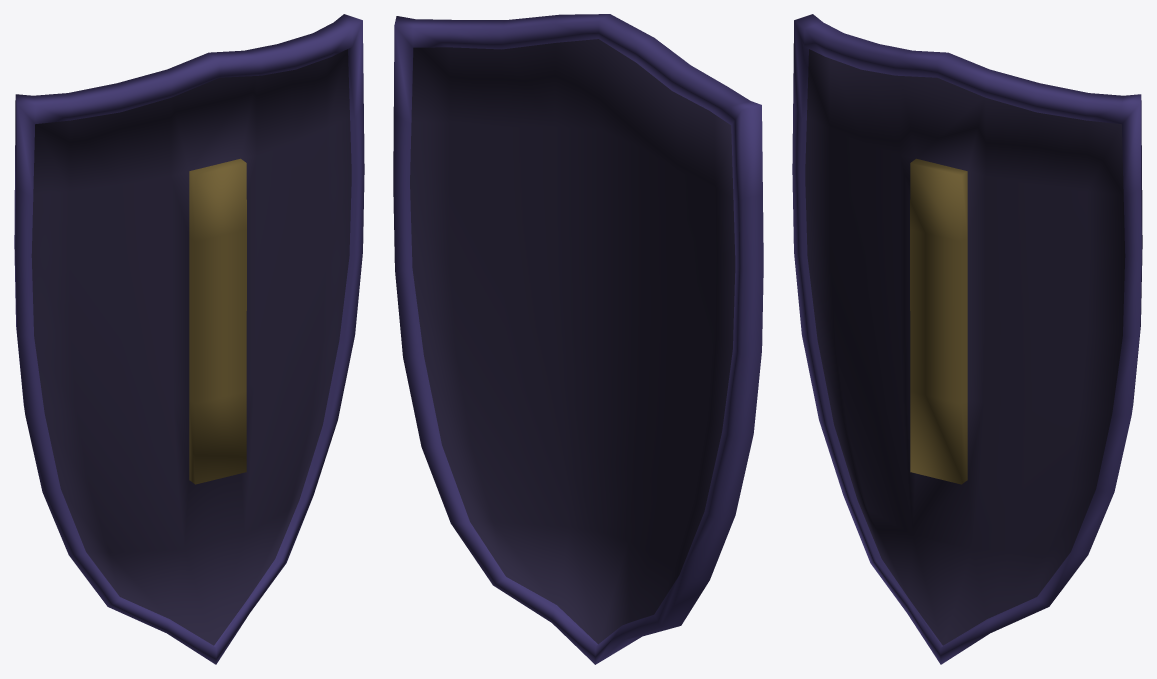
Rendered from gothic-shield.glb.
The picture shows the model from 3 angles, left to right: view 1: azimuth 30°, elevation 25°; view 2: azimuth 150°, elevation 25°; view 3: azimuth 330°, elevation 25°; orthographic projection. The views are drawn at different scales.
Visible parts, largest first — view 1: Gothic Shield - Kite Shield 1; view 2: Gothic Shield - Kite Shield 1; view 3: Gothic Shield - Kite Shield 1.
Part boxes in pixels (x1,y1,x2,y2): Gothic Shield - Kite Shield 1: (14,14,364,664); Gothic Shield - Kite Shield 1: (393,14,763,664); Gothic Shield - Kite Shield 1: (792,14,1142,664).
Size of the model in its own units: 0.4753 by 0.7904 by 0.0977.
